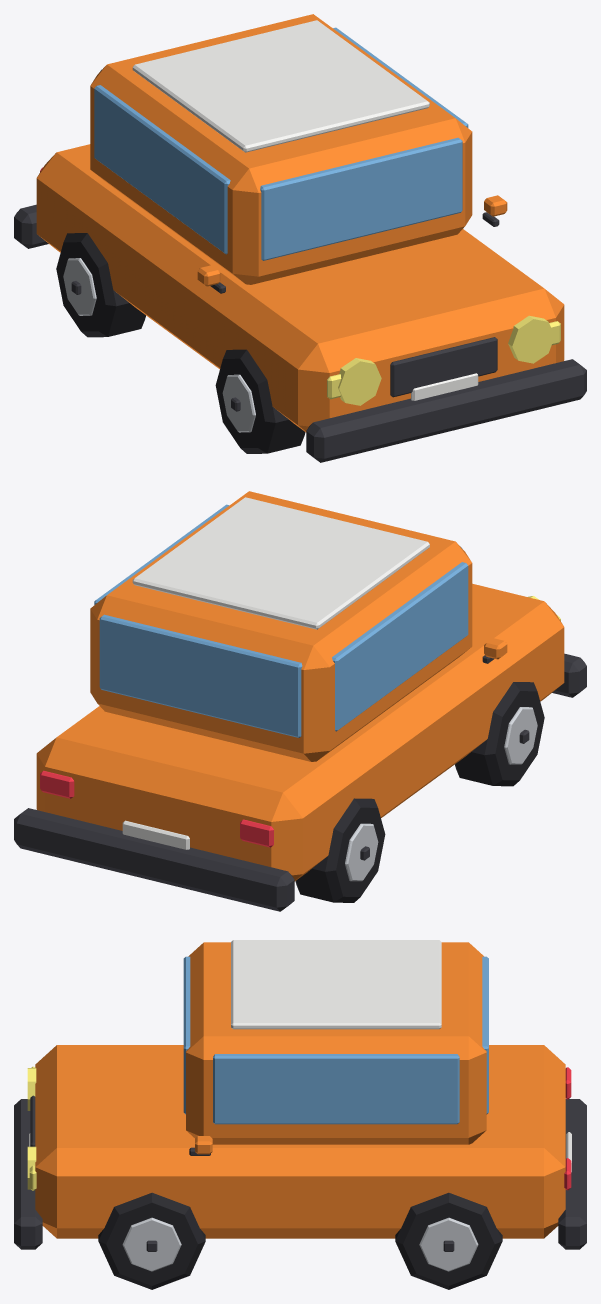
Rendered from OrangeCompactCar.fbx.
3 views of the same model, one above another, from view 1: azimuth 30°, elevation 25°; view 2: azimuth 150°, elevation 25°; view 3: azimuth 270°, elevation 25° (orthographic). The views are drawn at different scales.
Parts seen in each view (by area): view 1: OrangeCompactCar, OrangeCompactCar_WheelFR, OrangeCompactCar_WheelBR; view 2: OrangeCompactCar, OrangeCompactCar_WheelBR, OrangeCompactCar_WheelFR; view 3: OrangeCompactCar, OrangeCompactCar_WheelBL, OrangeCompactCar_WheelFL.
Boxes of the visible parts, box(x1,y1,x2,y2) form: OrangeCompactCar: box(14, 14, 586, 462); OrangeCompactCar_WheelFR: box(215, 349, 305, 453); OrangeCompactCar_WheelBR: box(56, 233, 145, 337); OrangeCompactCar: box(14, 491, 586, 911); OrangeCompactCar_WheelBR: box(295, 798, 385, 902); OrangeCompactCar_WheelFR: box(455, 682, 544, 786); OrangeCompactCar: box(14, 940, 586, 1249); OrangeCompactCar_WheelBL: box(395, 1192, 502, 1289); OrangeCompactCar_WheelFL: box(98, 1192, 205, 1289).
Bounding box in the file's own units: 4.55 × 3.82 × 8.
Materials: 1 (1 with a texture image).
